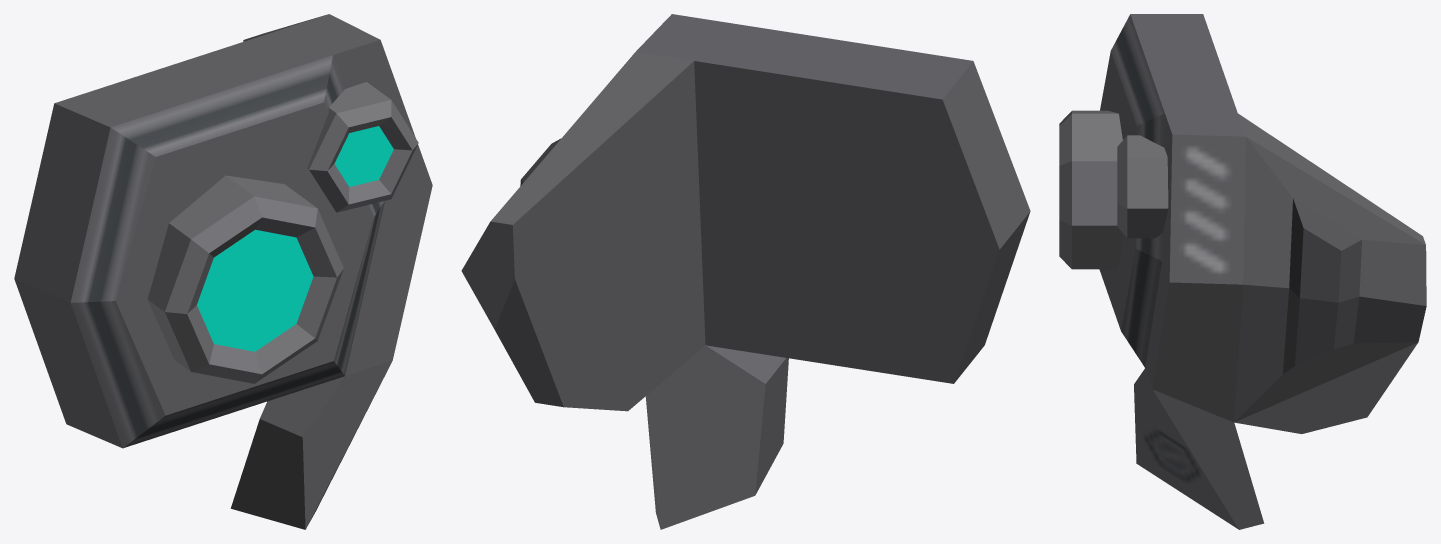
Rendered from SM_Chr_Attach_Cybernetics_Female_01.fbx.
3 renders of one model, left to right at view 1: azimuth 30°, elevation 25°; view 2: azimuth 150°, elevation 25°; view 3: azimuth 270°, elevation 25°, orthographic. The views are drawn at different scales.
Visible parts, largest first — view 1: SM_Chr_Attach_Cybernetics_Female_01; view 2: SM_Chr_Attach_Cybernetics_Female_01; view 3: SM_Chr_Attach_Cybernetics_Female_01.
Part boxes in pixels (left/top/right/bottom): SM_Chr_Attach_Cybernetics_Female_01: left=14, top=14, right=432, bottom=529; SM_Chr_Attach_Cybernetics_Female_01: left=461, top=14, right=1030, bottom=529; SM_Chr_Attach_Cybernetics_Female_01: left=1059, top=14, right=1426, bottom=529.
Size of the model in its own units: 11.66 by 13.09 by 10.65.
